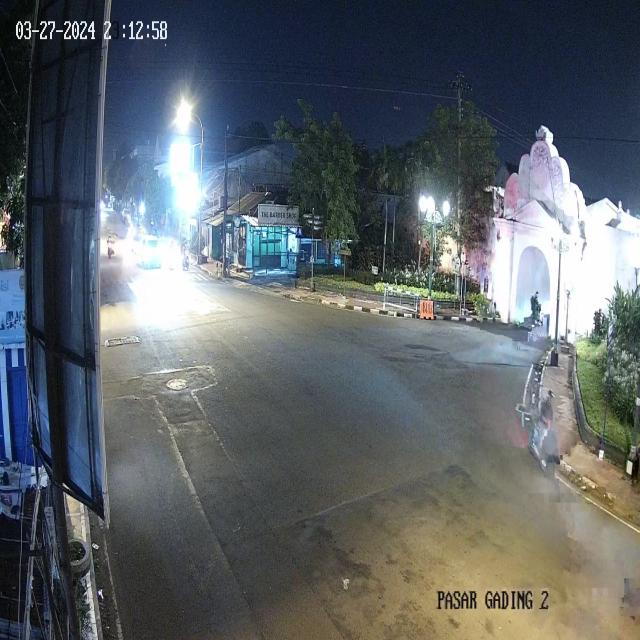car: (138, 234, 164, 269)
motorcycle: (180, 242, 193, 276), (105, 232, 115, 261)
